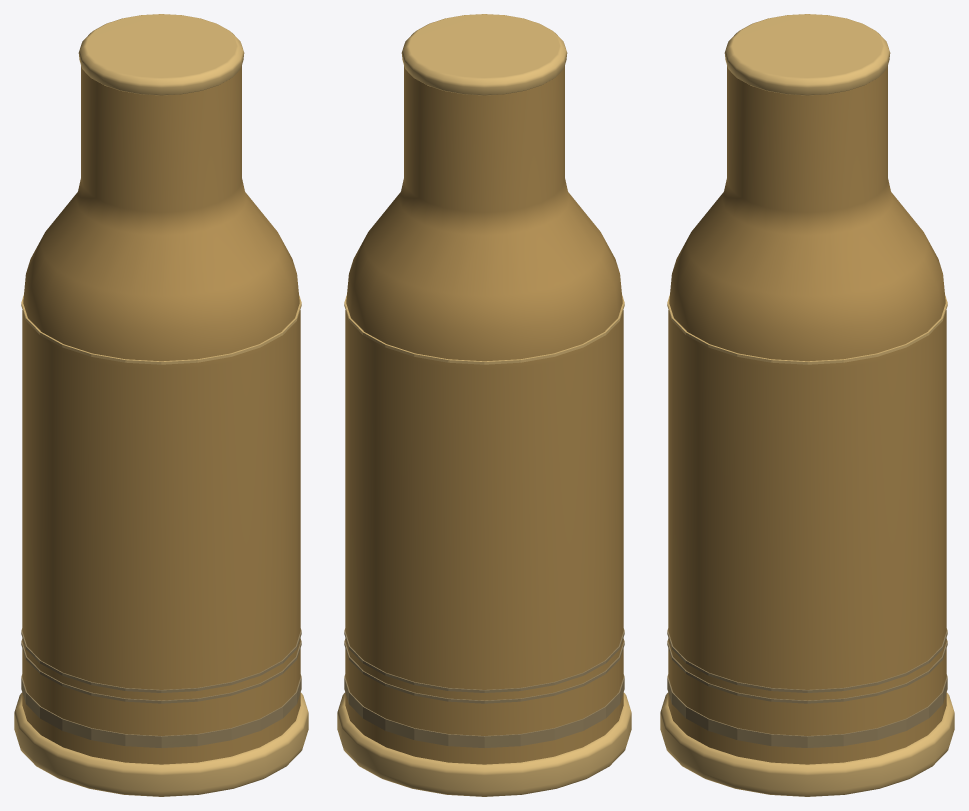
File: Bullet_Casing.fbx
3 renders of one model, left to right at view 1: azimuth 30°, elevation 25°; view 2: azimuth 150°, elevation 25°; view 3: azimuth 270°, elevation 25°, orthographic.
Parts seen in each view (by area): view 1: Brass cartridge case, Case mouth rolled lip, Raised extractor rim, Extractor groove highlight, Fine case tooling line 3, Fine case tooling line 1, Fine case tooling line 2; view 2: Brass cartridge case, Case mouth rolled lip, Raised extractor rim, Extractor groove highlight, Fine case tooling line 3, Fine case tooling line 1, Fine case tooling line 2; view 3: Brass cartridge case, Case mouth rolled lip, Raised extractor rim, Extractor groove highlight, Fine case tooling line 3, Fine case tooling line 1, Fine case tooling line 2.
Part boxes in pixels (<box>): Brass cartridge case: <box>22,66,300,764</box>; Case mouth rolled lip: <box>78,14,244,95</box>; Raised extractor rim: <box>14,692,308,796</box>; Extractor groove highlight: <box>21,674,301,747</box>; Fine case tooling line 3: <box>21,295,301,364</box>; Fine case tooling line 1: <box>21,639,301,703</box>; Fine case tooling line 2: <box>21,628,301,692</box>; Brass cartridge case: <box>345,66,623,764</box>; Case mouth rolled lip: <box>401,14,567,95</box>; Raised extractor rim: <box>337,692,631,796</box>; Extractor groove highlight: <box>344,674,624,747</box>; Fine case tooling line 3: <box>344,295,624,364</box>; Fine case tooling line 1: <box>344,639,624,703</box>; Fine case tooling line 2: <box>344,628,624,692</box>; Brass cartridge case: <box>668,66,946,764</box>; Case mouth rolled lip: <box>724,14,890,95</box>; Raised extractor rim: <box>660,692,954,796</box>; Extractor groove highlight: <box>667,674,947,747</box>; Fine case tooling line 3: <box>667,295,947,364</box>; Fine case tooling line 1: <box>667,639,947,703</box>; Fine case tooling line 2: <box>667,628,947,692</box>.
Bounding box in the file's own units: 25.2 × 65.75 × 25.2.
